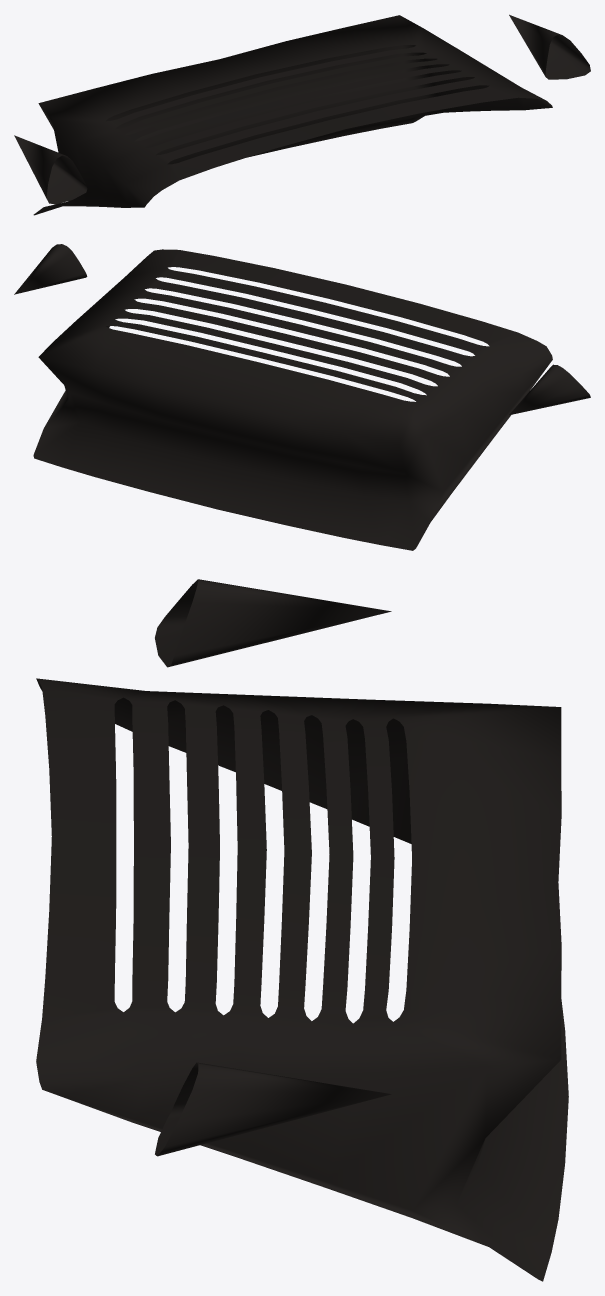
The model's file is RWB_993_Boot_01_Trim.fbx.
3 renders of one model, top to bottom at view 1: azimuth 30°, elevation 25°; view 2: azimuth 150°, elevation 25°; view 3: azimuth 270°, elevation 25°, orthographic. The views are drawn at different scales.
Parts seen in each view (by area): view 1: RWB_993_Boot_01_Trim; view 2: RWB_993_Boot_01_Trim; view 3: RWB_993_Boot_01_Trim.
Part boxes in pixels (bbox=[...]): RWB_993_Boot_01_Trim: bbox=[14, 14, 590, 215]; RWB_993_Boot_01_Trim: bbox=[14, 244, 590, 550]; RWB_993_Boot_01_Trim: bbox=[36, 579, 568, 1281].
Size of the model in its own units: 129 by 31.09 by 54.73.
